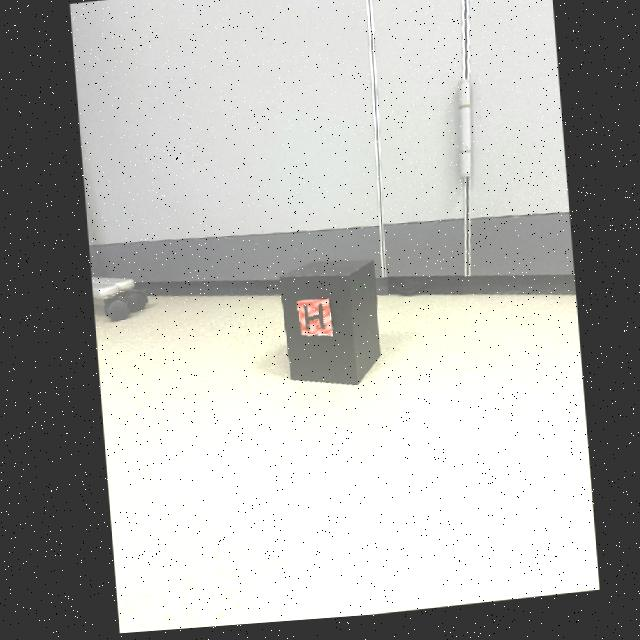H: (301, 308, 321, 334)
